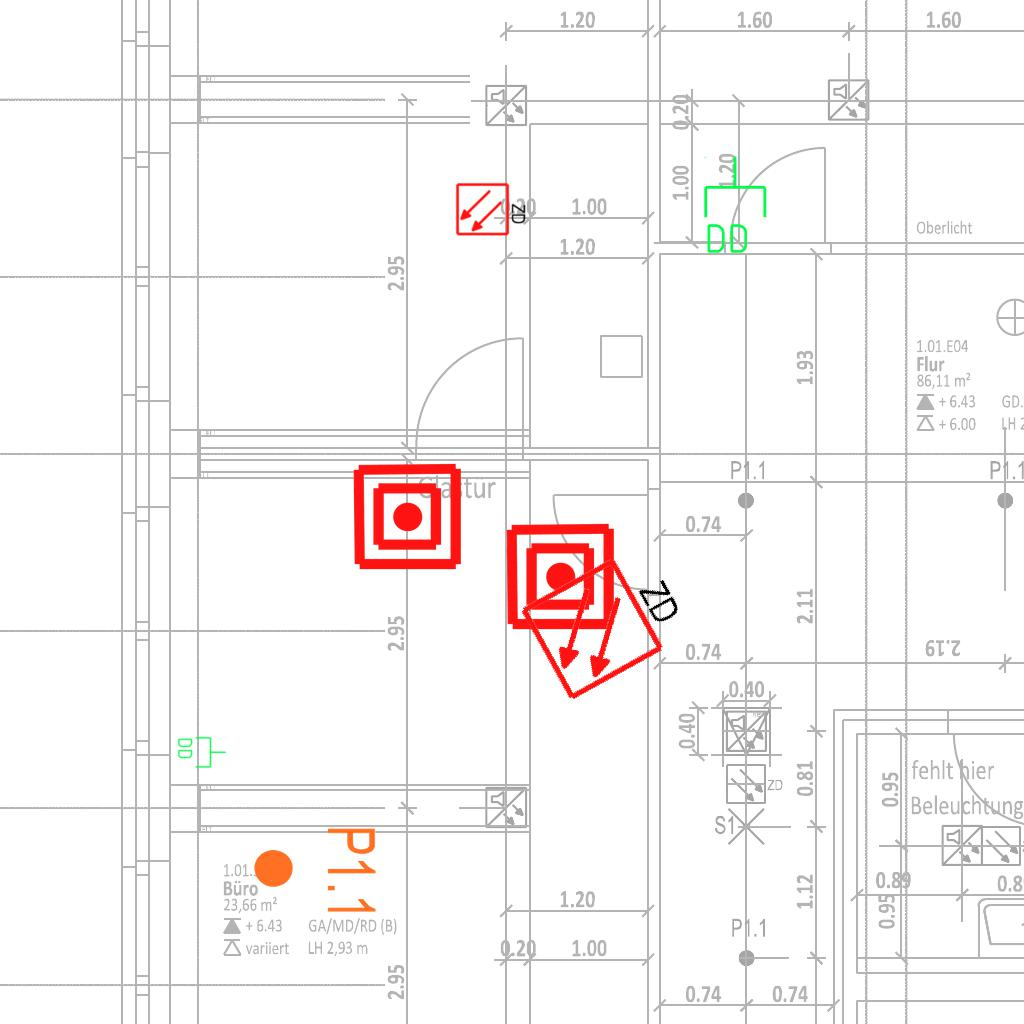Datenanschluss_zweifach: (700, 154, 769, 257), (176, 735, 227, 769)
Downlight_LED_Einbauleuchten_Flur: (251, 825, 379, 918)
NAM-Nichtautomatischer_Melder: (504, 520, 617, 633), (351, 460, 464, 573)
ZD_Melder_in_Zwischendecke_mit_Revisionsoeffnung_mind_40_x_40_cm: (515, 532, 701, 705), (455, 180, 529, 237)
